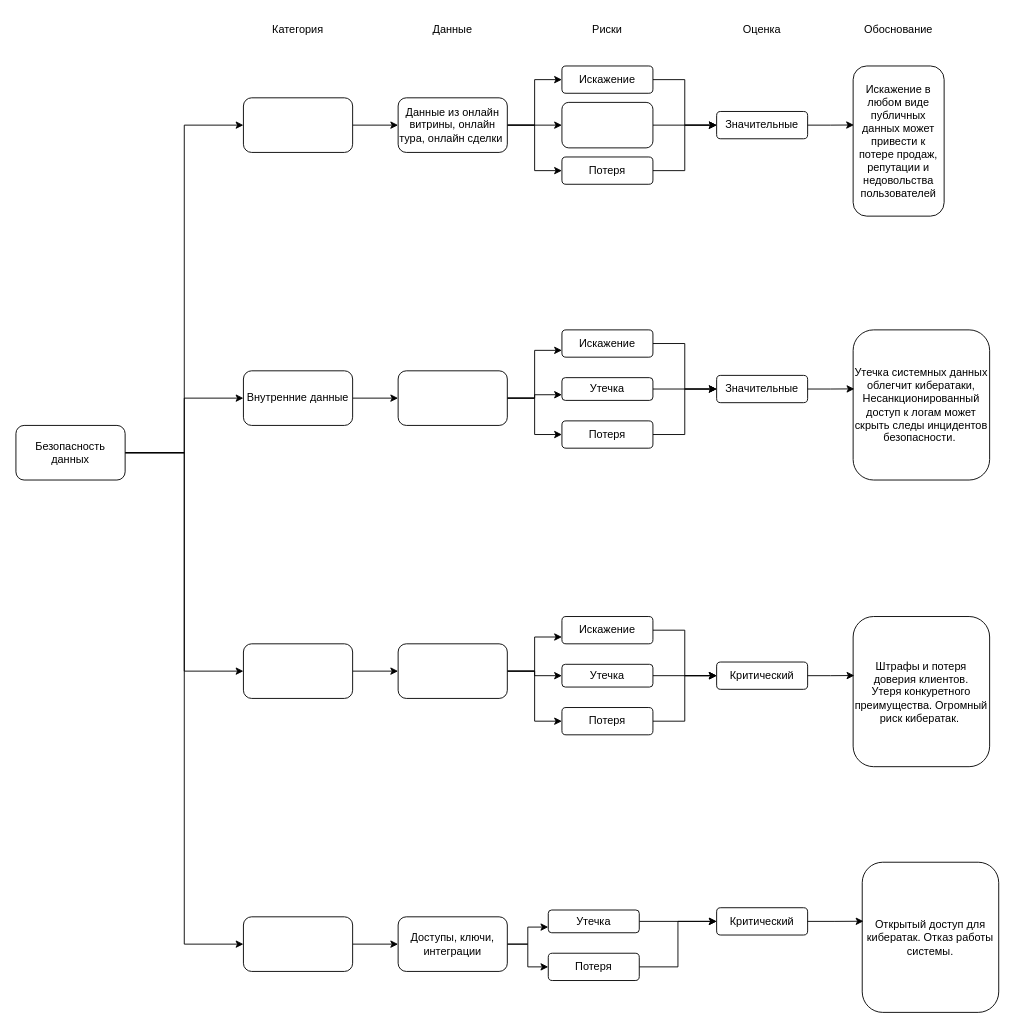
Image size: 1015x1028. Some labels were removed from this diagram. The centre of each missing label's shape, as x and y in pixels:
Конфиденциальные данные: [298,670]
Не качественные данные: [607,124]
Персональные данные, сделки, кодовая база: [452,670]
Публичные данные: [298,124]
Секретные данные: [298,943]
Системные и технические данные, отчеты, переписки: [452,397]
